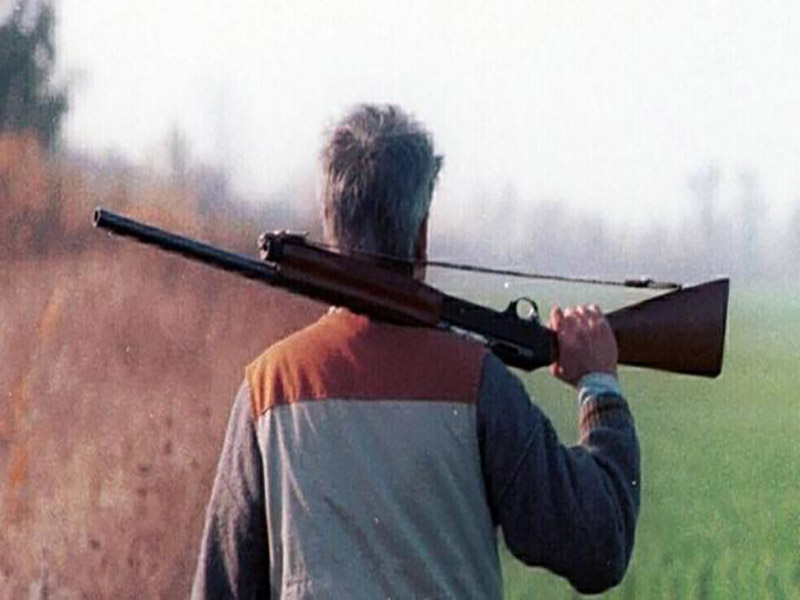cacciatore: (182, 99, 660, 594)
fucile: (96, 195, 736, 384)
